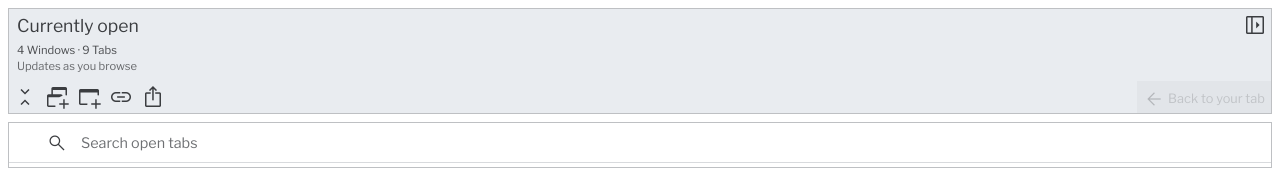
Test: Remove duplicate tabs in Currently open (KAN-867) › the header right-click lists it last, with every window's copies summed
This screenshot has width=1280, height=189.
Right-click the heading "Currently open" at (78, 25), box top-left (17, 14), bottom-right (139, 36)
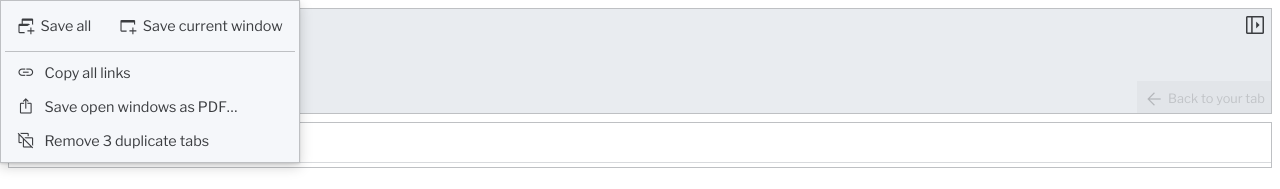
Check: the menu item "Remove 3 duplicate tabs" is shown, box top-left (5, 124), bottom-right (295, 158)
